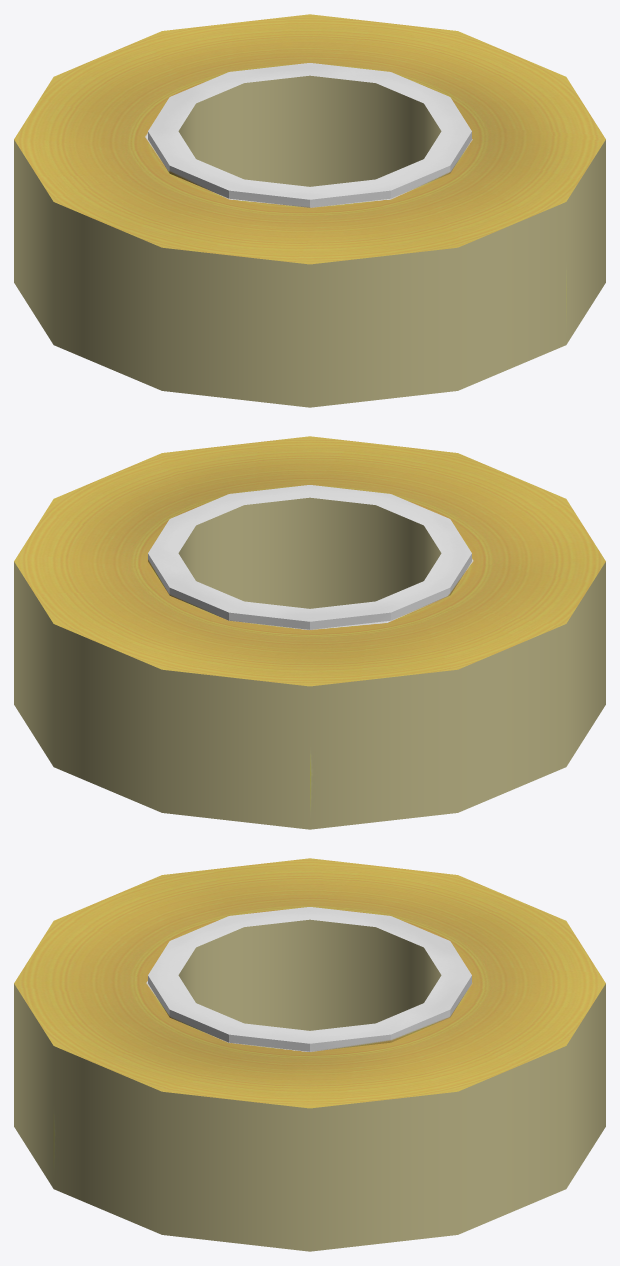
The model's file is Tape.FBX.
The picture shows the model from 3 angles, top to bottom: view 1: azimuth 30°, elevation 25°; view 2: azimuth 150°, elevation 25°; view 3: azimuth 270°, elevation 25°; orthographic projection.
Visible parts, largest first — view 1: Tube001; view 2: Tube001; view 3: Tube001.
Part boxes in pixels (x1,y1,x2,y2): Tube001: (14, 14, 605, 407); Tube001: (14, 436, 605, 829); Tube001: (14, 858, 605, 1251).
Size of the model in its own units: 40.21 by 11.95 by 40.21.
1 material, 1 textured.
